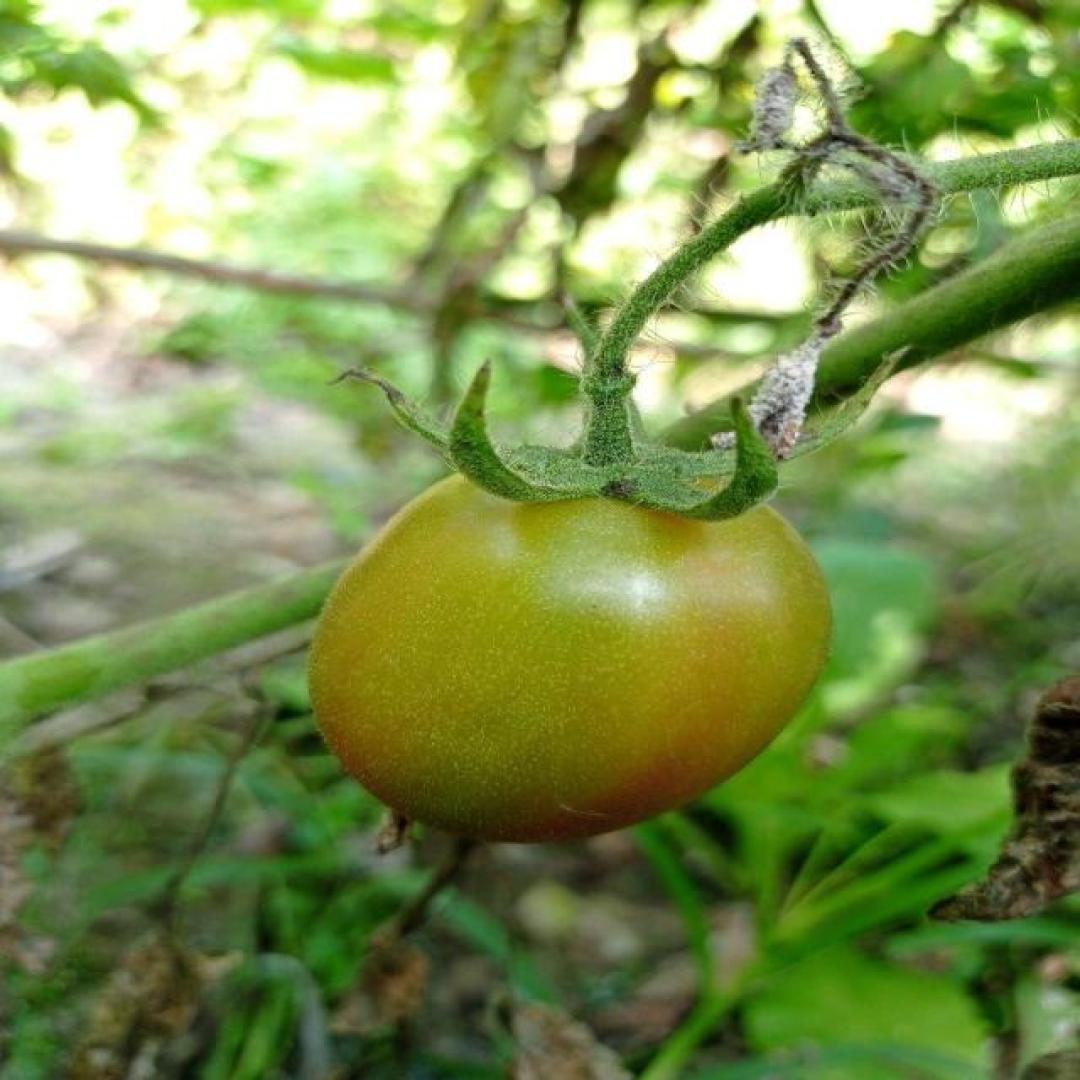setengah_matang: (302, 446, 834, 847)
